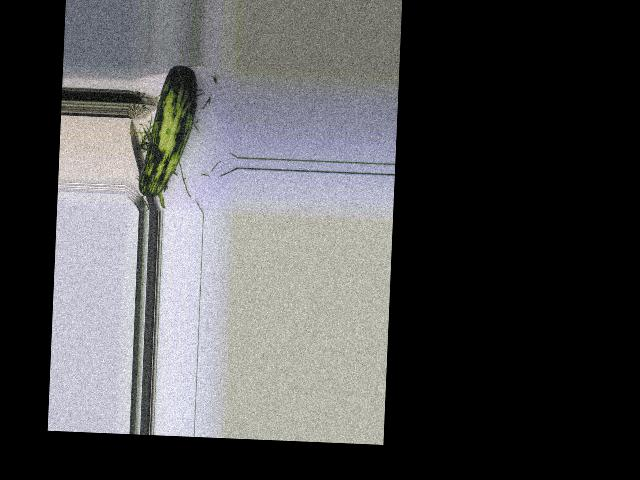cucumber: (138, 64, 198, 199)
